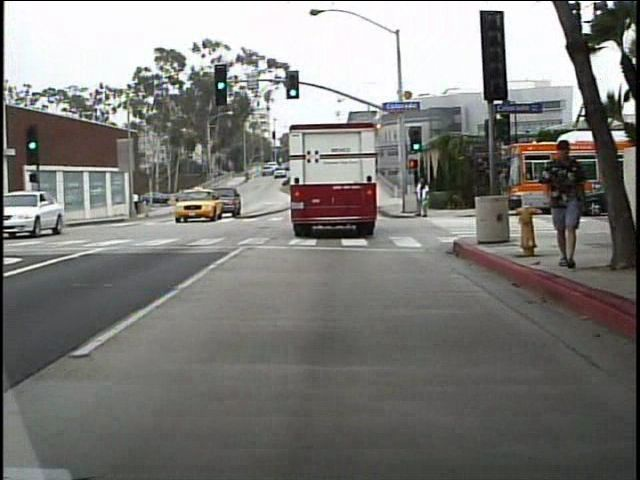person: (541, 132, 583, 278), (409, 177, 434, 222), (29, 189, 46, 230), (129, 187, 146, 220)
